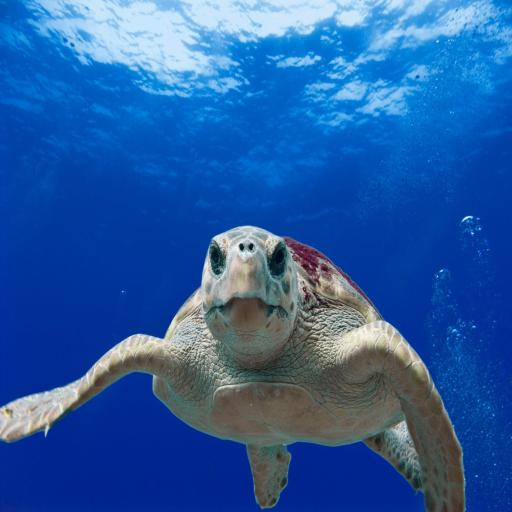turtles: (0, 226, 482, 512), (98, 411, 199, 490)
